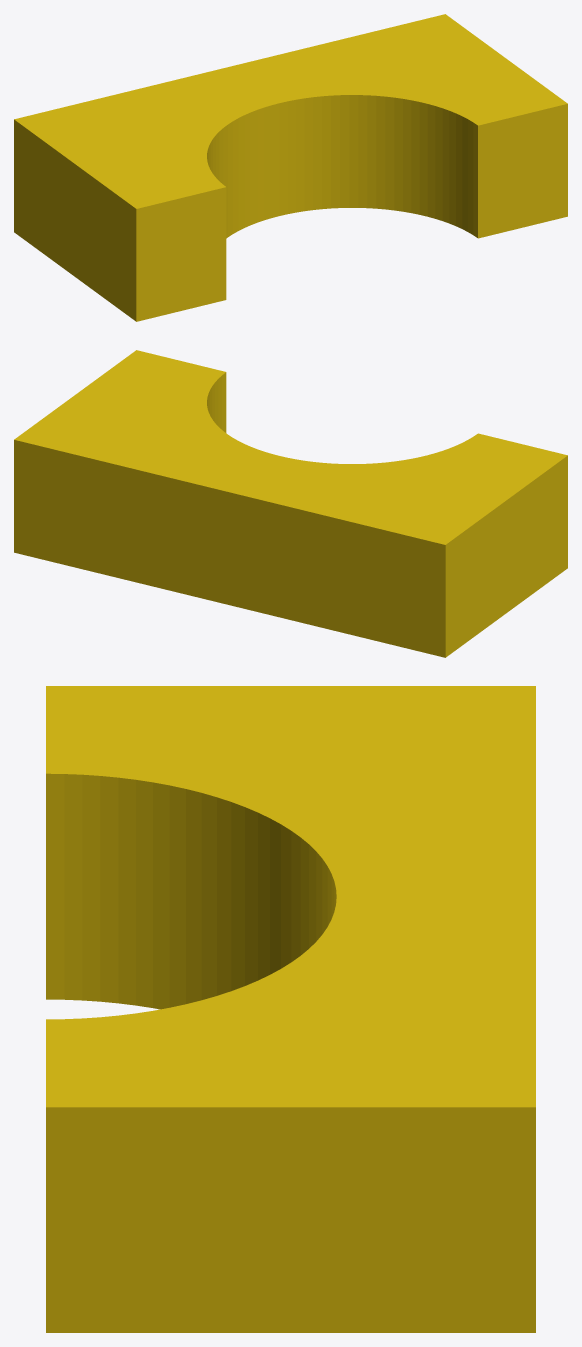
Rendered from BigArchY.fbx.
The picture shows the model from 3 angles, top to bottom: view 1: azimuth 30°, elevation 25°; view 2: azimuth 150°, elevation 25°; view 3: azimuth 270°, elevation 25°; orthographic projection. The views are drawn at different scales.
Visible parts, largest first — view 1: BigArchY; view 2: BigArchY; view 3: BigArchY.
Part boxes in pixels (x1,y1,x2,y2): BigArchY: (14,14,567,321); BigArchY: (14,350,567,657); BigArchY: (46,686,535,1332).
Bounding box in the file's own units: 2400 × 600 × 1180.
